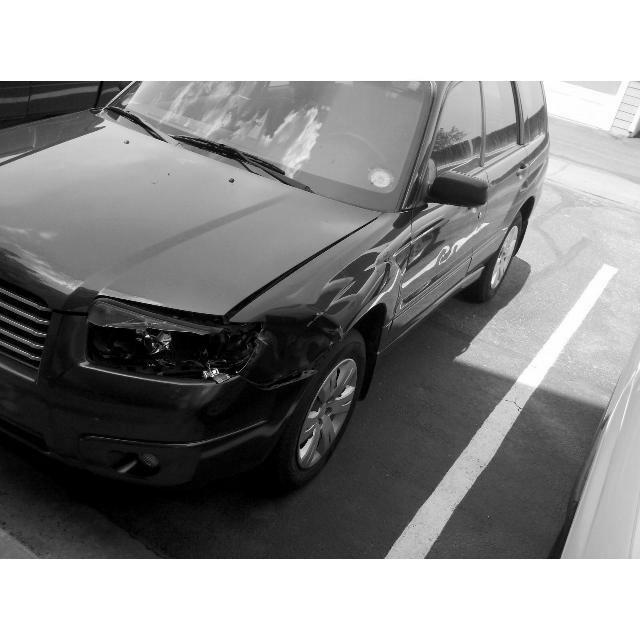Headlight-damage: (65, 273, 284, 415)
